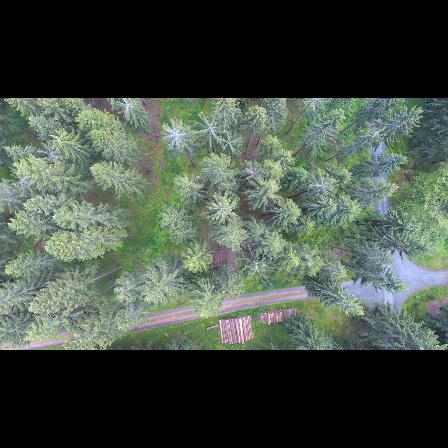Sick: (159, 120, 194, 154), (192, 114, 226, 144), (309, 173, 333, 200), (37, 146, 62, 166), (220, 133, 242, 154)
